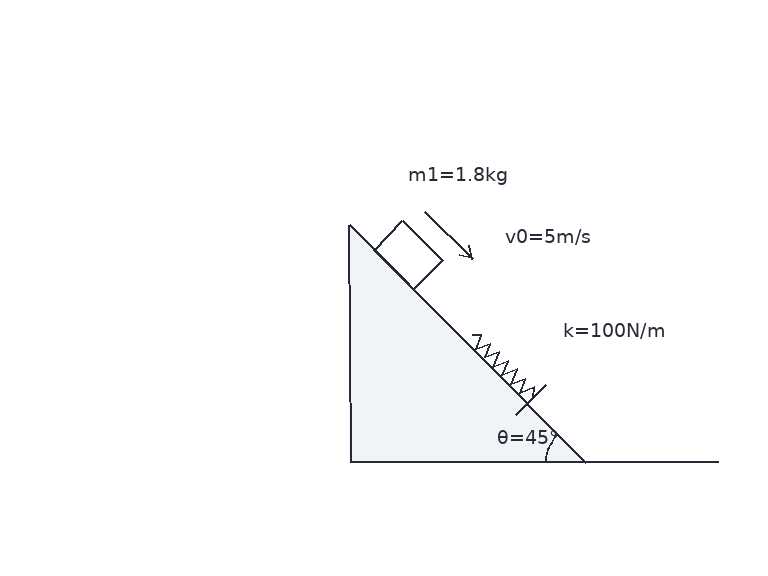block: (372, 219, 444, 291)
ramp: (348, 224, 588, 464)
spring: (470, 333, 536, 399)
